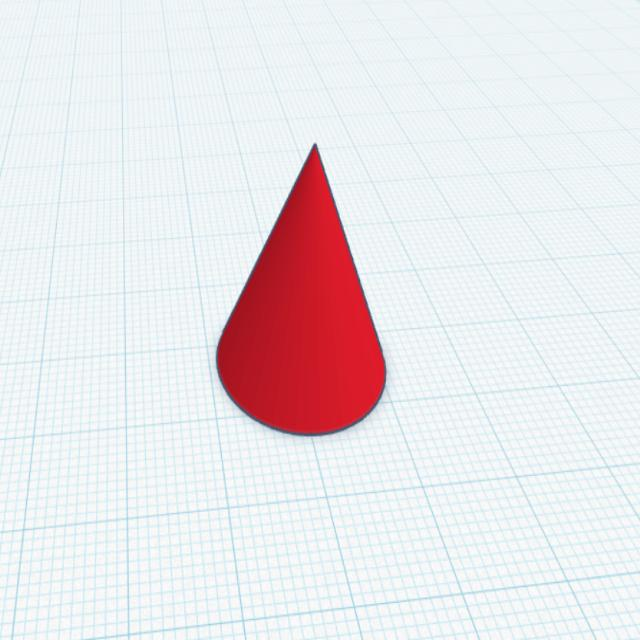cone: (212, 138, 394, 444)
